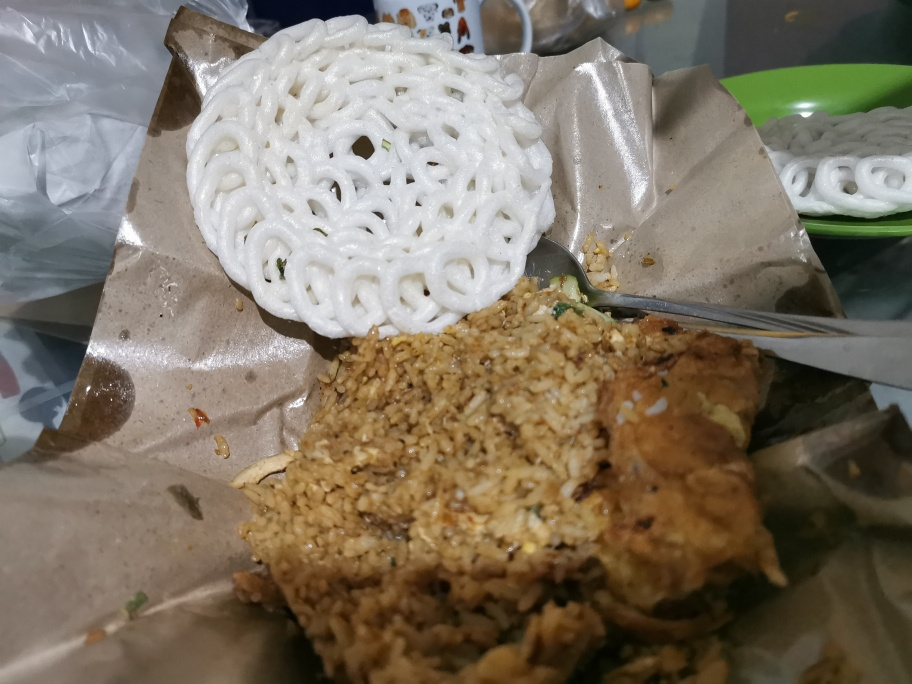kerupuk: (181, 1, 551, 331)
nasi goreng: (263, 332, 779, 684)
